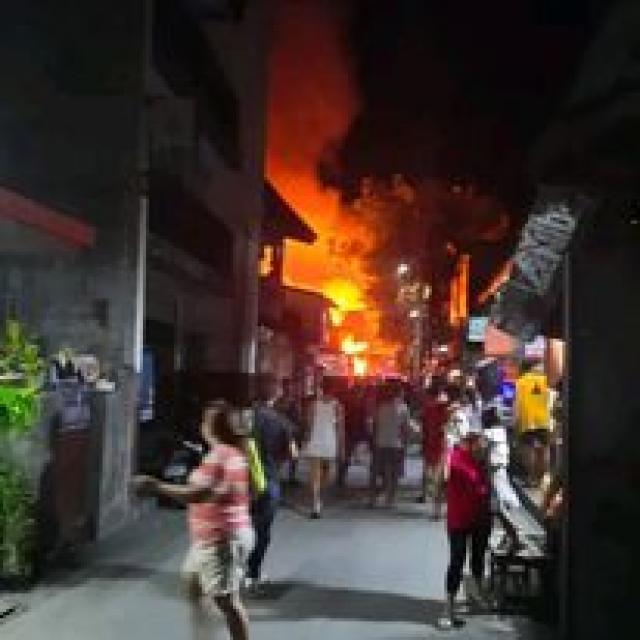Fire: (315, 268, 382, 362)
Smoke: (269, 21, 370, 204), (286, 196, 396, 294)
